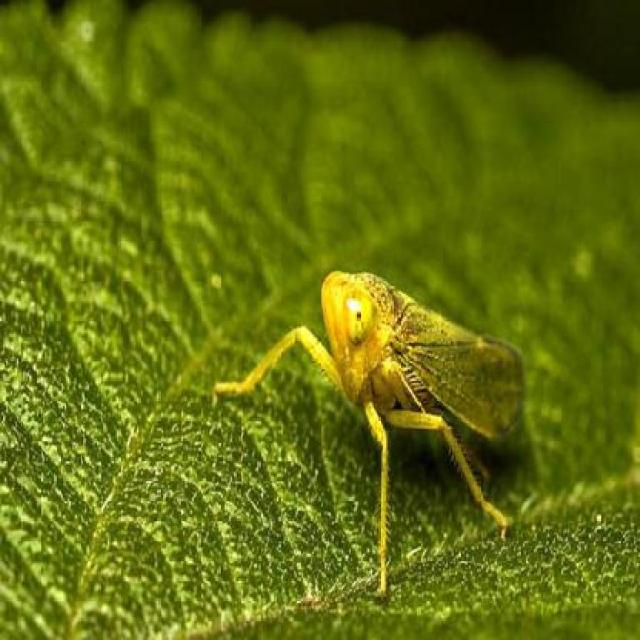green-leafhopper: (214, 269, 526, 580)
